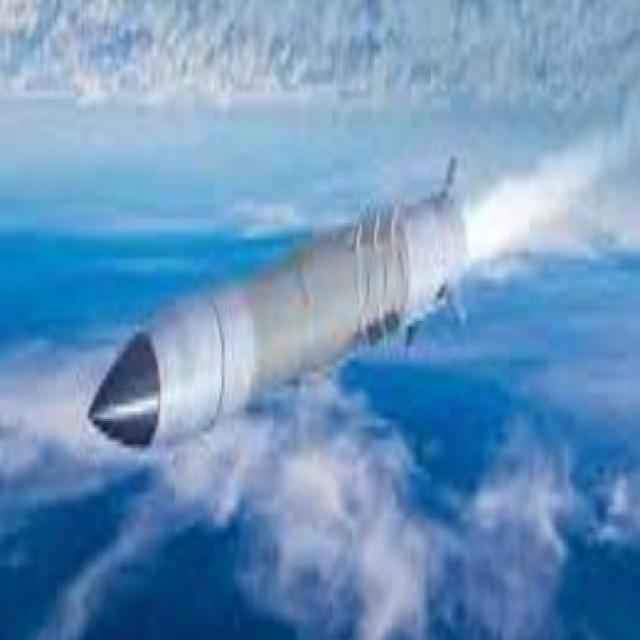missile: (89, 184, 466, 457)
